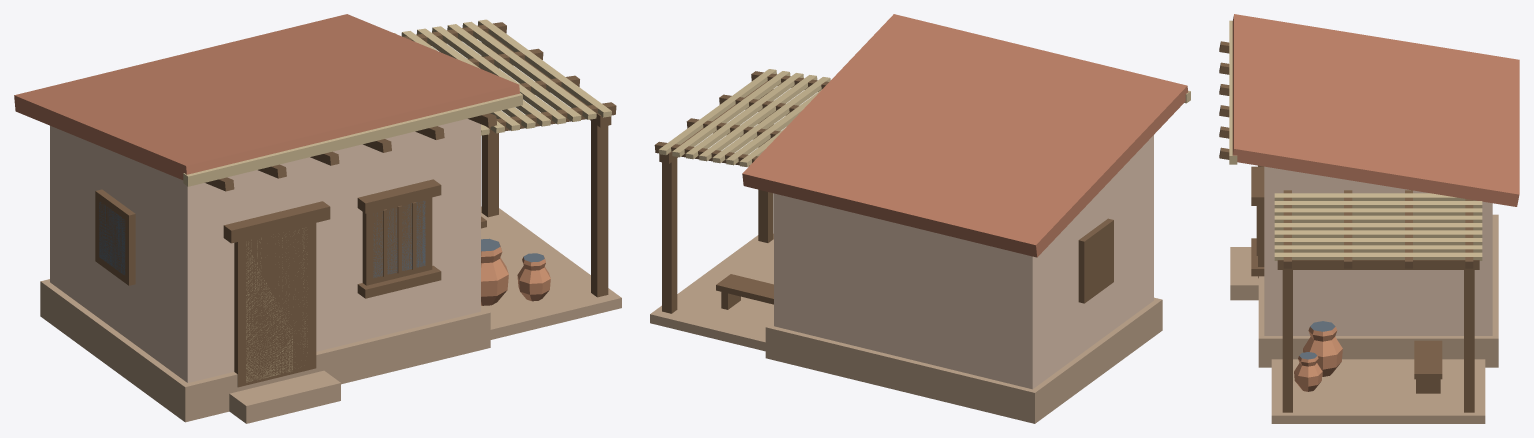
File: OBS_N1_CasaEpoca_03.fbx
3 renders of one model, left to right at view 1: azimuth 30°, elevation 25°; view 2: azimuth 150°, elevation 25°; view 3: azimuth 270°, elevation 25°, orthographic. The views are drawn at different scales.
Visible parts, largest first — view 1: OBS_N1_CasaEpoca_03; view 2: OBS_N1_CasaEpoca_03; view 3: OBS_N1_CasaEpoca_03.
Part boxes in pixels (x1,y1,x2,y2): OBS_N1_CasaEpoca_03: (14, 14, 621, 423); OBS_N1_CasaEpoca_03: (650, 14, 1190, 423); OBS_N1_CasaEpoca_03: (1219, 14, 1519, 423).
Bounding box in the file's own units: 7.55 × 4.23 × 5.12.
